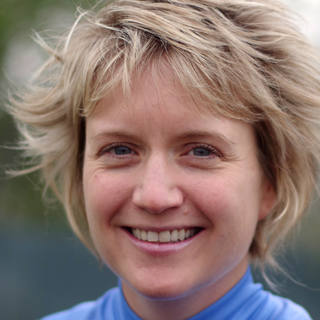eye: (176, 140, 226, 165), (98, 140, 145, 164)
